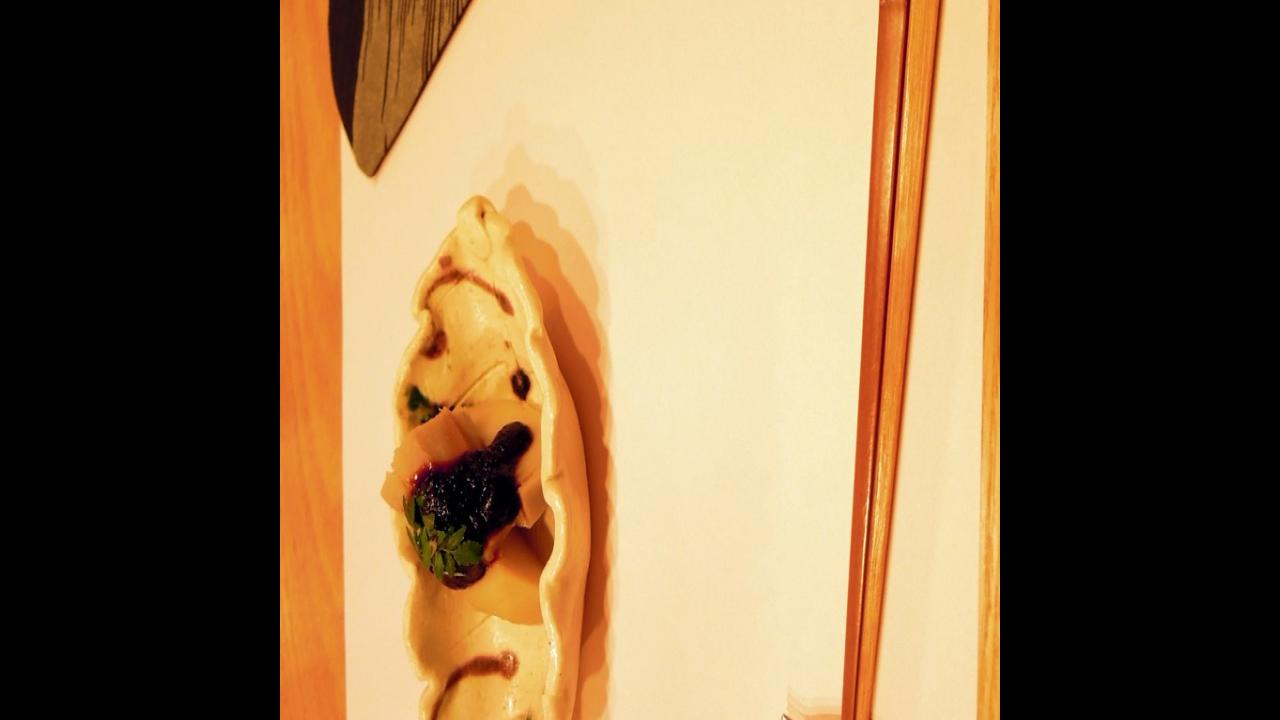chopstick: (826, 0, 948, 720)
